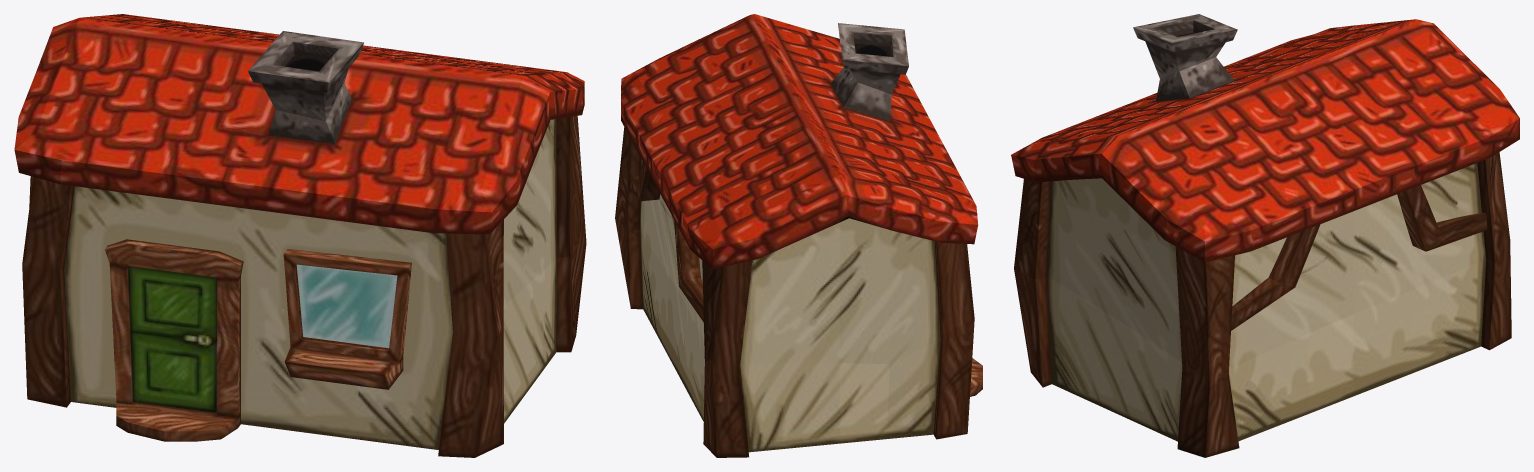
Rendered from house_small.glb.
3 views of the same model, side by side, from view 1: azimuth 30°, elevation 25°; view 2: azimuth 150°, elevation 25°; view 3: azimuth 270°, elevation 25° (orthographic). The views are drawn at different scales.
Visible parts, largest first — view 1: House_small_haus_1_0; view 2: House_small_haus_1_0; view 3: House_small_haus_1_0.
Part boxes in pixels (bbox=[...]): House_small_haus_1_0: bbox=[14, 14, 586, 457]; House_small_haus_1_0: bbox=[615, 14, 982, 457]; House_small_haus_1_0: bbox=[1011, 14, 1519, 457].
Size of the model in its own units: 5.25 by 3.63 by 5.29.
1 material, 1 textured.
